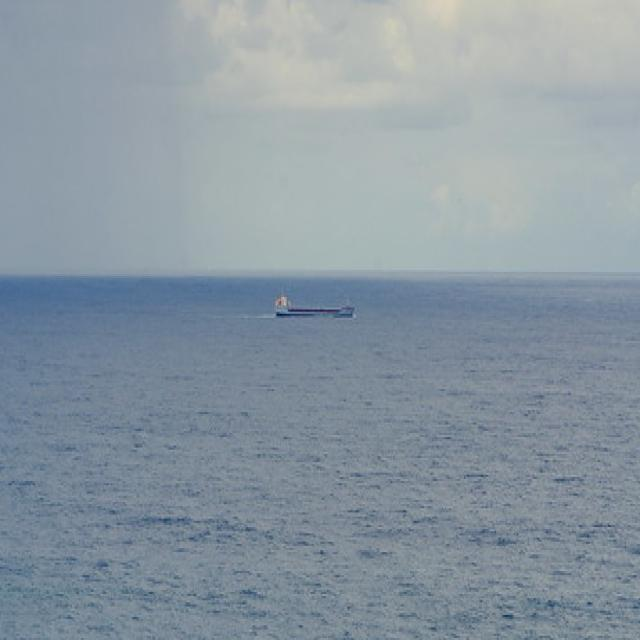cargoship: (272, 288, 354, 318)
